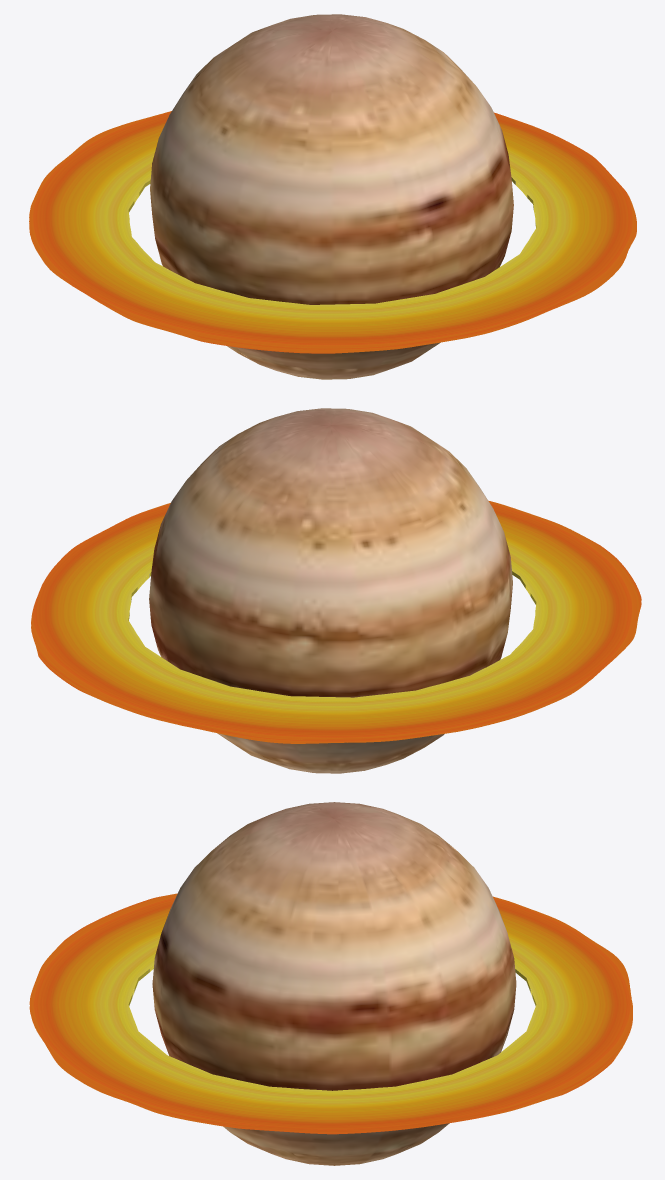
The model's file is Jupiter_Low-poly_3D_model_for_Free.fbx.
The picture shows the model from 3 angles, top to bottom: view 1: azimuth 30°, elevation 25°; view 2: azimuth 150°, elevation 25°; view 3: azimuth 270°, elevation 25°; orthographic projection.
Visible parts, largest first — view 1: pSphere1, pPipe1; view 2: pSphere1, pPipe1; view 3: pSphere1, pPipe1.
Part boxes in pixels (x1,y1,x2,y2): pSphere1: [150, 14, 513, 379]; pPipe1: [29, 111, 636, 353]; pSphere1: [149, 408, 512, 773]; pPipe1: [31, 500, 641, 743]; pSphere1: [152, 802, 516, 1165]; pPipe1: [29, 893, 632, 1134].
Bounding box in the file's own units: 70 × 40 × 70.
2 materials, 2 textured.
